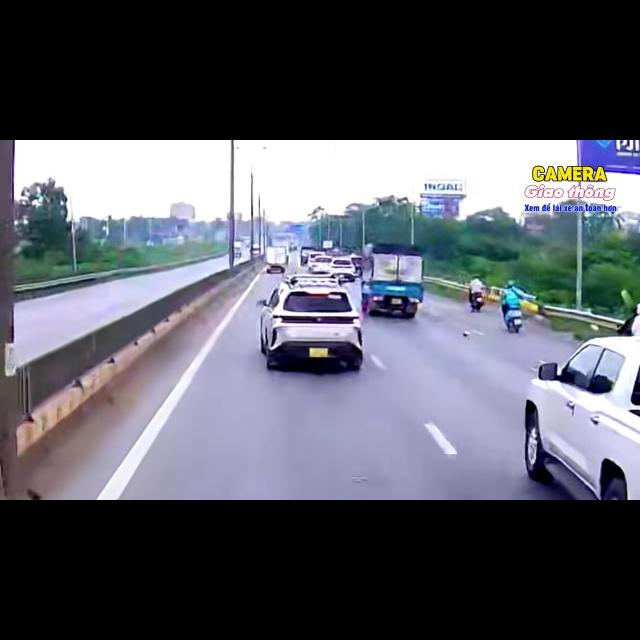car: (525, 337, 639, 499), (259, 282, 362, 370), (284, 273, 342, 285), (331, 258, 357, 282), (308, 255, 332, 273)
motorcycle: (504, 309, 522, 333), (470, 292, 483, 312)
truck: (525, 337, 639, 499), (362, 243, 423, 318), (265, 246, 289, 274), (234, 240, 242, 260)
